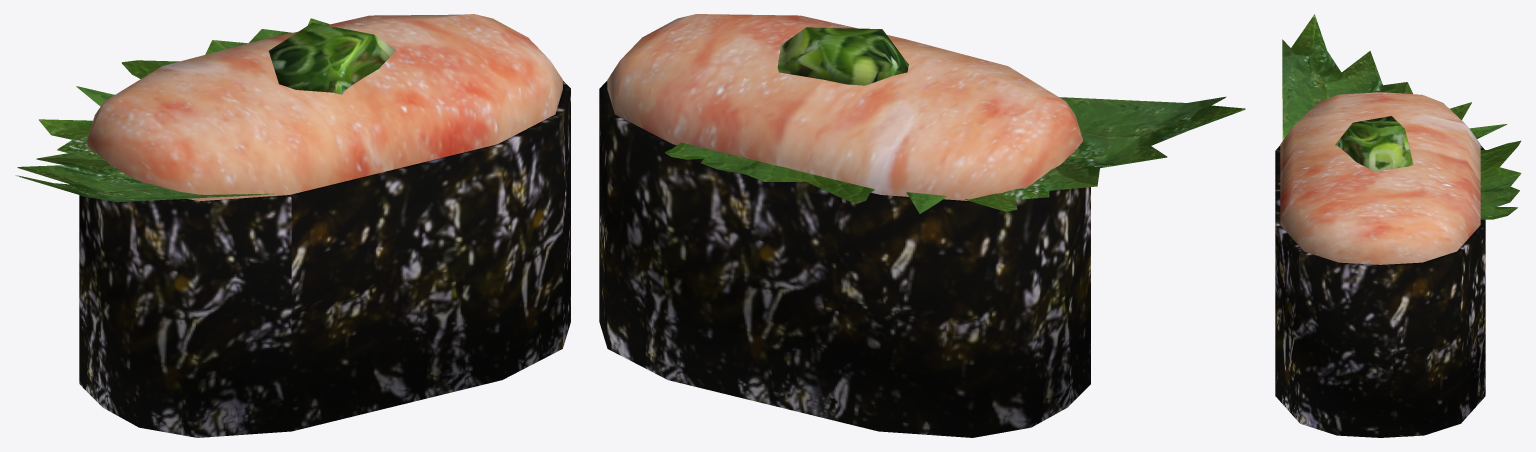
The model's file is negitoro_2.fbx.
3 views of the same model, side by side, from view 1: azimuth 30°, elevation 25°; view 2: azimuth 150°, elevation 25°; view 3: azimuth 270°, elevation 25° (orthographic). The views are drawn at different scales.
Visible parts, largest first — view 1: negitoro_2; view 2: negitoro_2; view 3: negitoro_2.
Part boxes in pixels (box(x1,y1,x2,y2)): negitoro_2: box(15, 14, 570, 437); negitoro_2: box(599, 14, 1245, 437); negitoro_2: box(1275, 14, 1521, 437).
Bounding box in the file's own units: 7.29 × 3.82 × 3.68.
